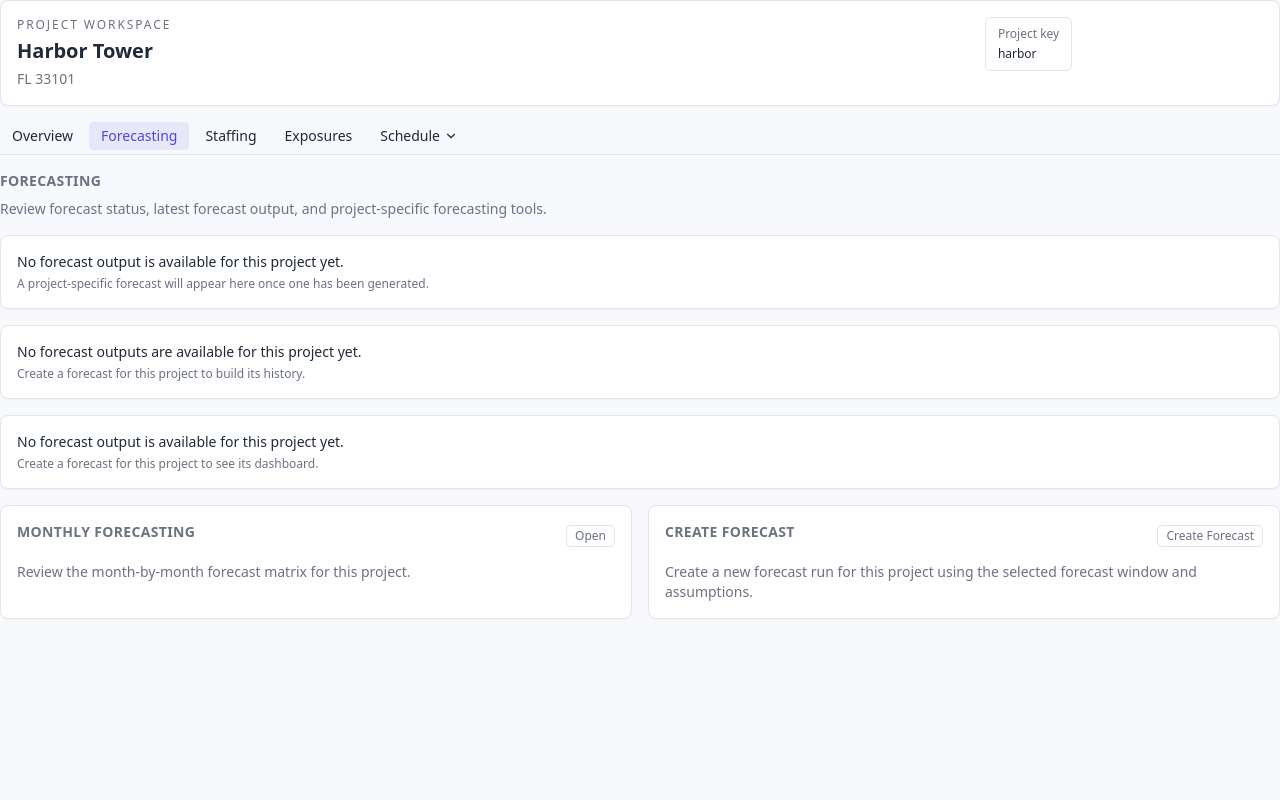
Project forecast creation › closes the modal on Cancel without submitting
The image size is (1280, 800).
Click the button "Create Forecast": point(1210, 536) [1157, 525, 1263, 547]
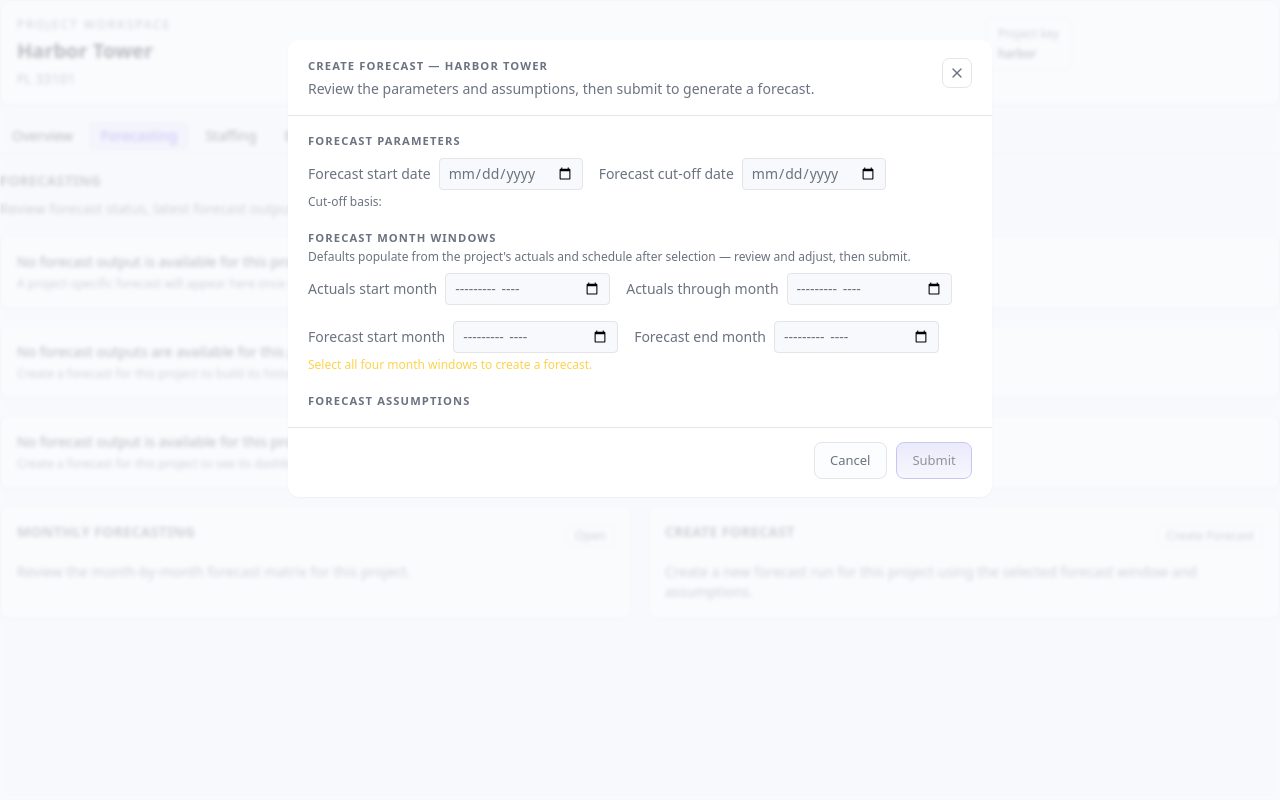
Result: the heading "Create forecast — Harbor Tower" is shown at [308, 58, 548, 73]
Click the button "Cancel": point(850, 461) [814, 442, 887, 479]
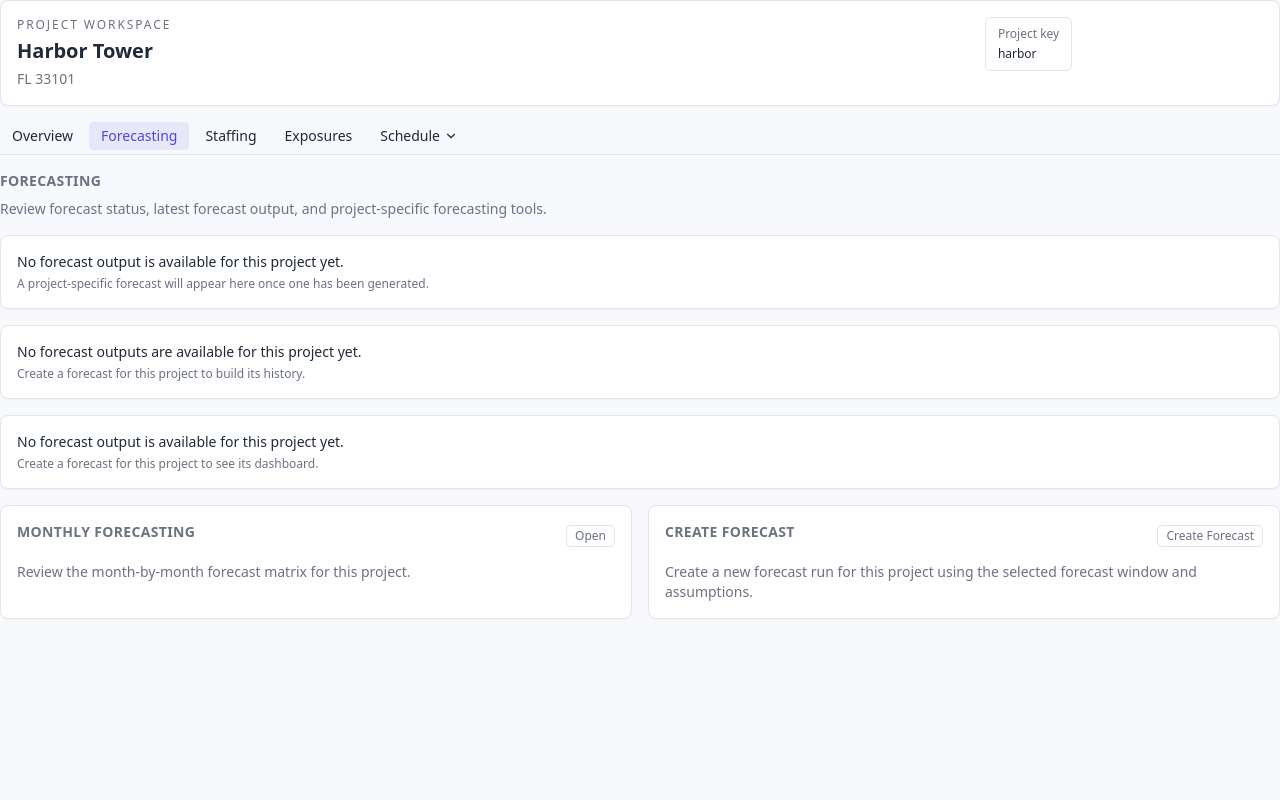
Result: the heading "Create forecast — Harbor Tower" is gone
